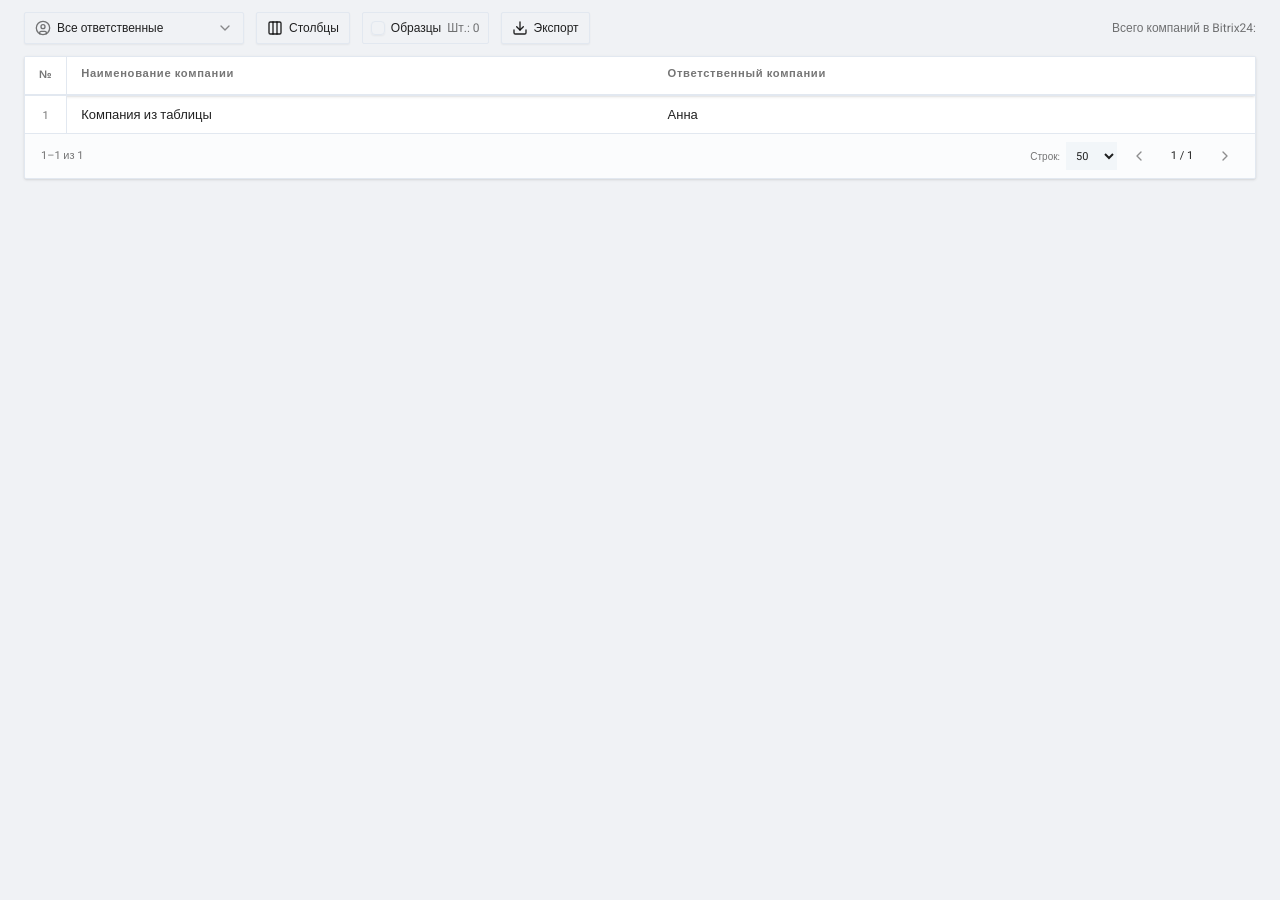
it: opens a data row, uses real Bitrix company names and preserves the table on close/reopen
The image size is (1280, 900).
Check: the button "Компания из таблицы" is shown, box [81,105,212,124]
Check: the button "ID 42" is not shown
What coordinates should you click on to do the following:
click the cell "Анна"
I would click on:
 (683, 114)
Its box is [654,96,1255,133].
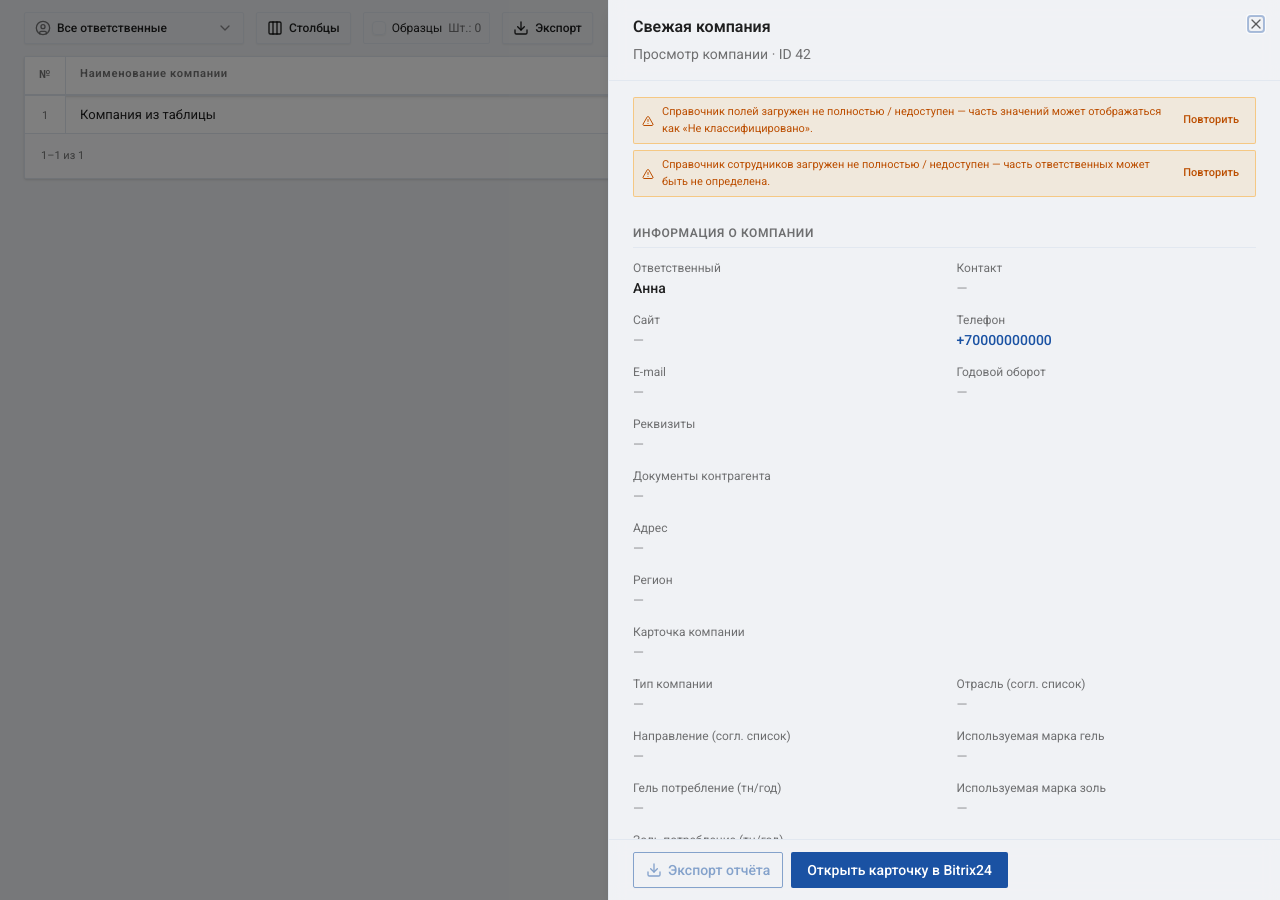
Check: the heading "Свежая компания" is shown, box [633,17,771,36]
Check: the link "+70000000000" is shown, box [956,332,1052,348]
What coordinates should you click on to do the following:
click the button named "Close"
I would click on:
 (1256, 24)
Its box is [1248,16,1264,32].
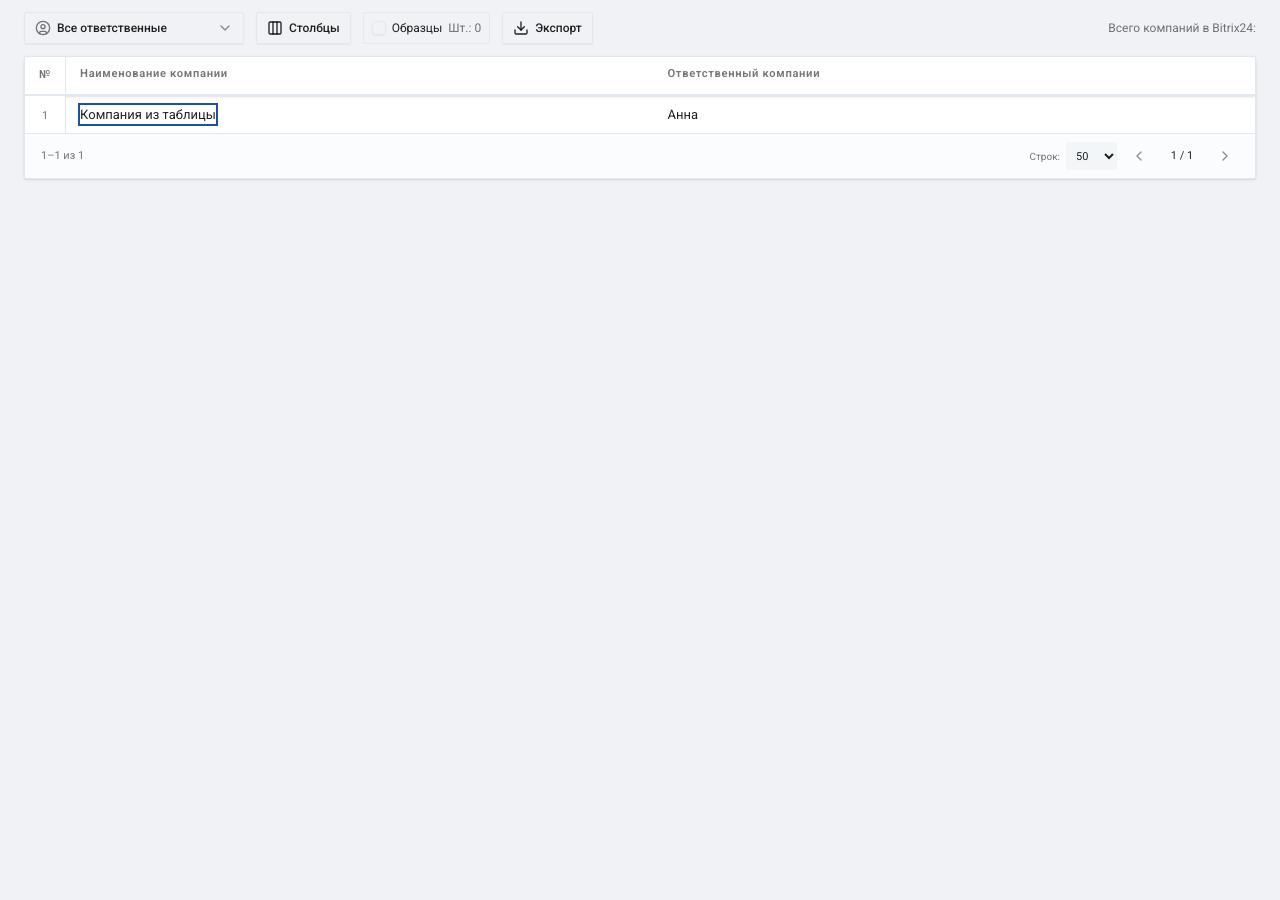
What coordinates should you click on to do the following:
click the button "Компания из таблицы"
I would click on:
 (148, 115)
Its box is [80,105,216,124].
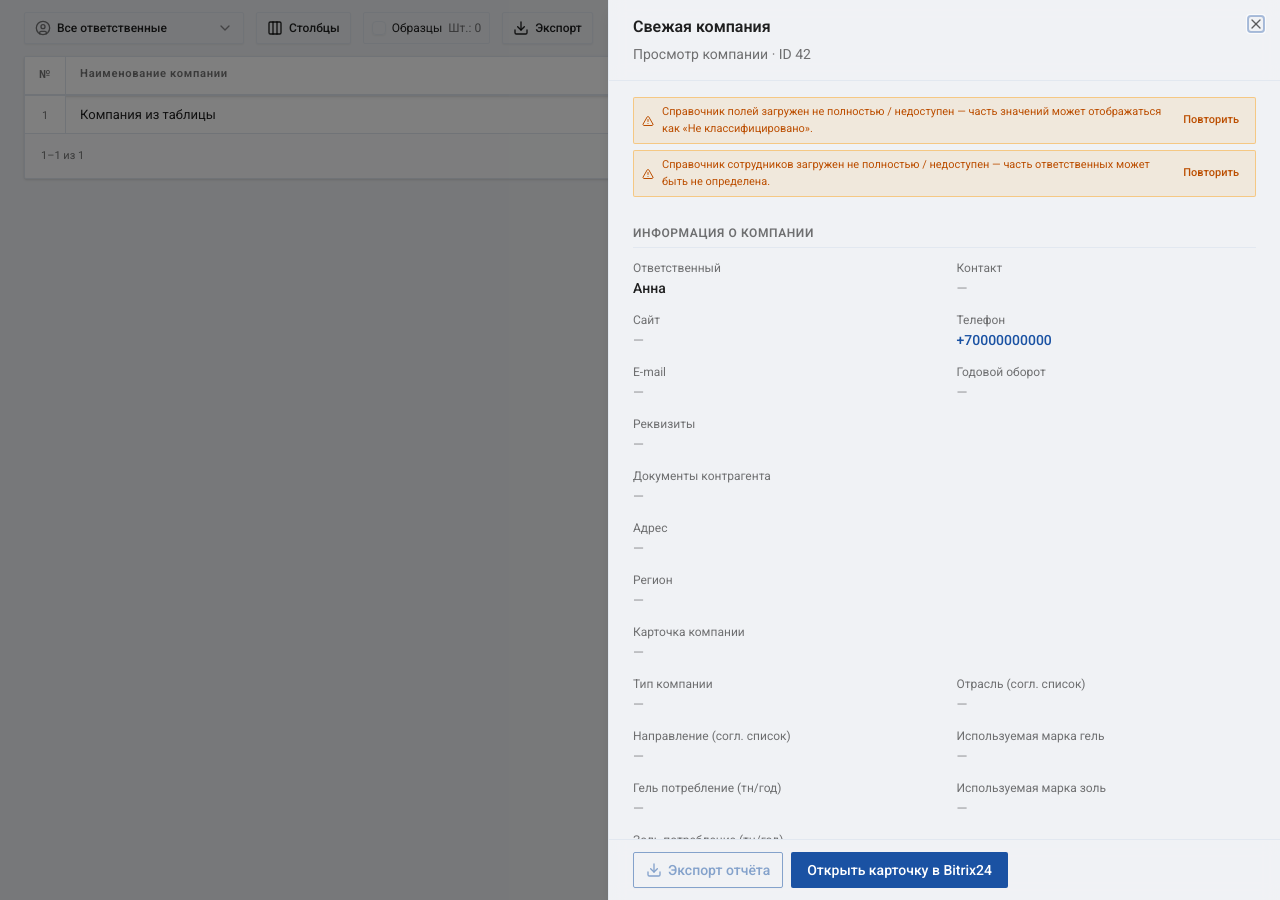
Check: the heading "Свежая компания" is shown, box [633,17,771,36]
